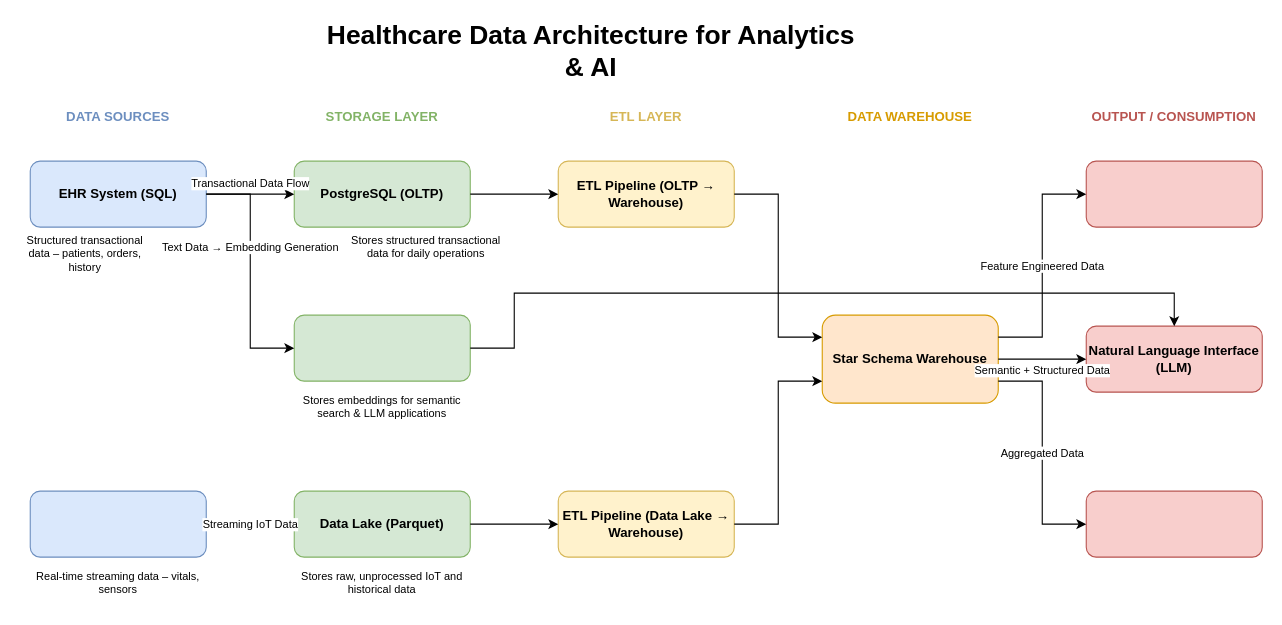
Some shapes in this 1282 by 625 pixel diagram are drawn without their labels. Here are the shapes that lost their labels. From the top down, the centre of each, then its label:
the point at 1173,193: Readmission Predictor (ML)
the point at 381,347: Vector Database
the point at 117,523: ICU Monitors (IoT)
the point at 1173,523: Management Dashboards (BI)
